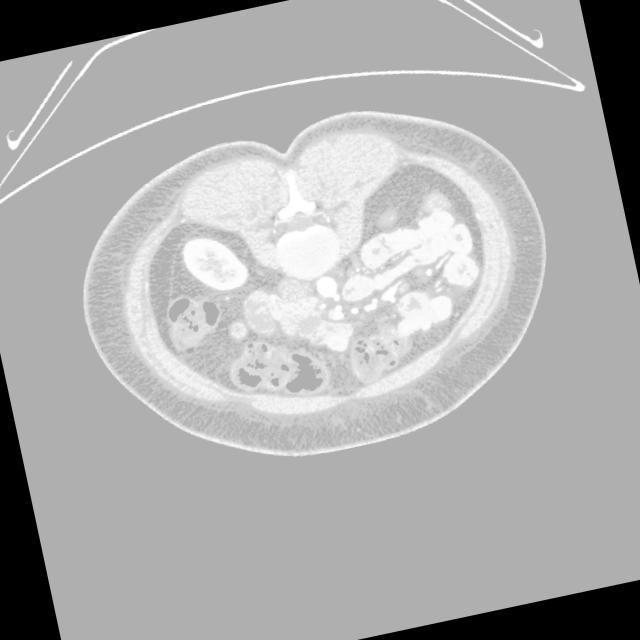NORMAL: (28, 72, 589, 508)
